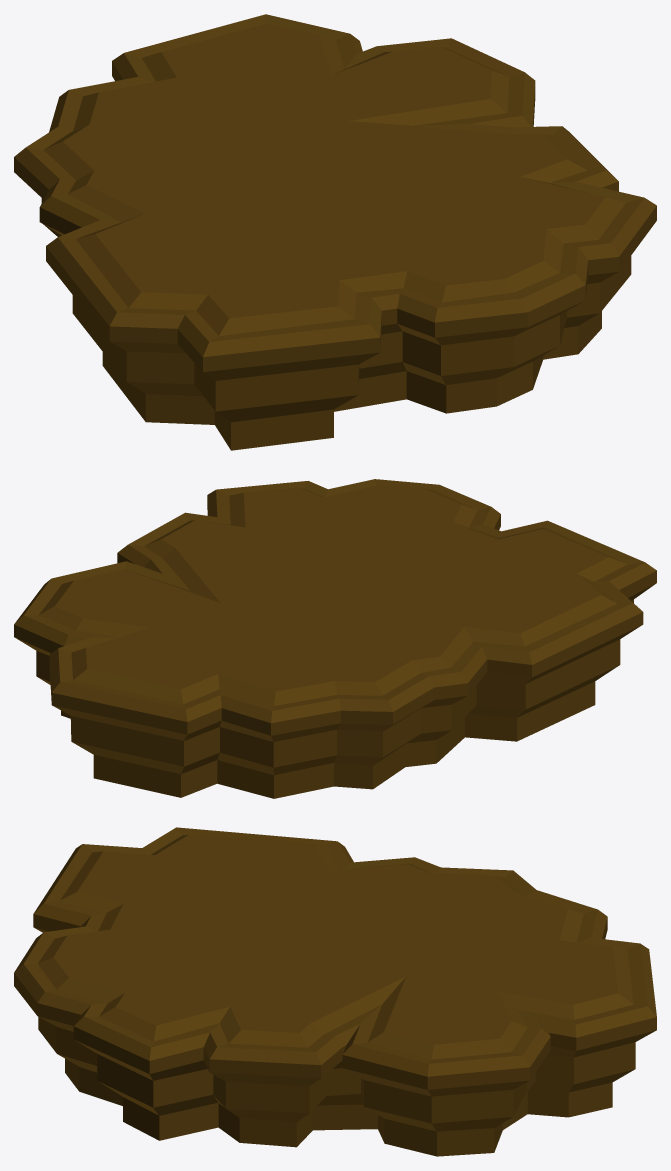
File: desert_rock1.fbx
3 views of the same model, one above another, from view 1: azimuth 30°, elevation 25°; view 2: azimuth 150°, elevation 25°; view 3: azimuth 270°, elevation 25° (orthographic). The views are drawn at different scales.
Parts seen in each view (by area): view 1: desert_rock1; view 2: desert_rock1; view 3: desert_rock1.
Boxes of the visible parts, box(x1,y1,x2,y2) form: desert_rock1: box(14, 14, 656, 450); desert_rock1: box(14, 479, 656, 798); desert_rock1: box(14, 827, 656, 1156).
Bounding box in the file's own units: 22.64 × 25.12 × 5.
